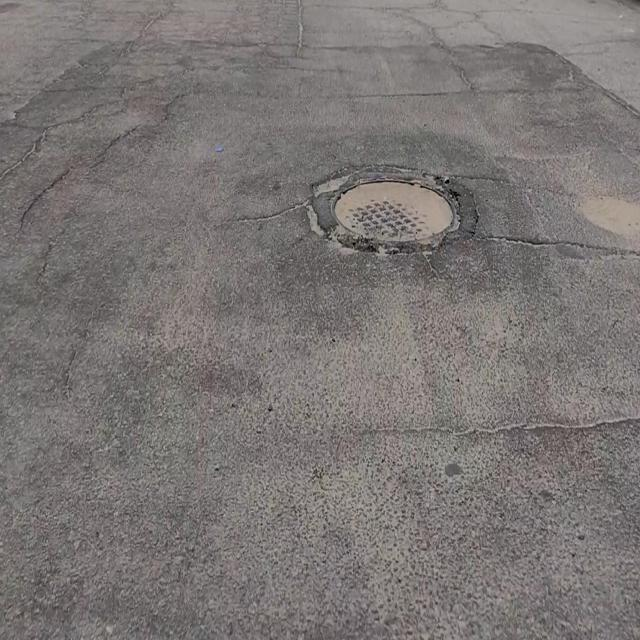Potholes: (329, 173, 456, 245)
